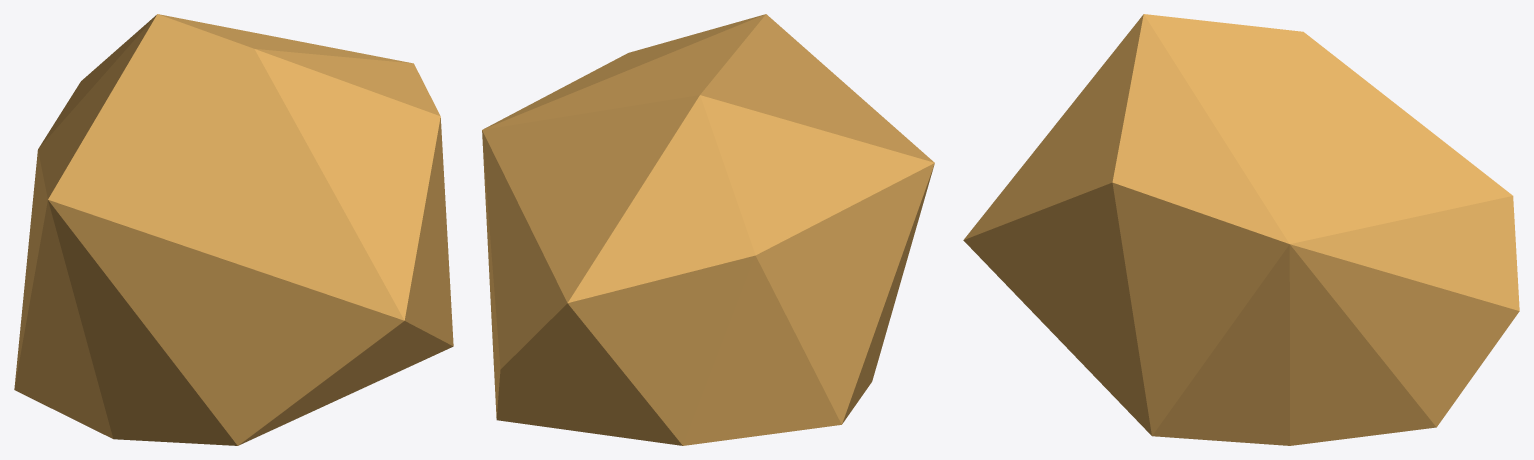
Rendered from stone_1.fbx.
3 views of the same model, side by side, from view 1: azimuth 30°, elevation 25°; view 2: azimuth 150°, elevation 25°; view 3: azimuth 270°, elevation 25° (orthographic). The views are drawn at different scales.
Parts seen in each view (by area): view 1: Icosphere.302; view 2: Icosphere.302; view 3: Icosphere.302.
Boxes of the visible parts, x1,y1,x2,y2 form: Icosphere.302: [14, 14, 453, 445]; Icosphere.302: [482, 14, 934, 445]; Icosphere.302: [963, 14, 1519, 445].
Size of the model in its own units: 811 by 662 by 960.
